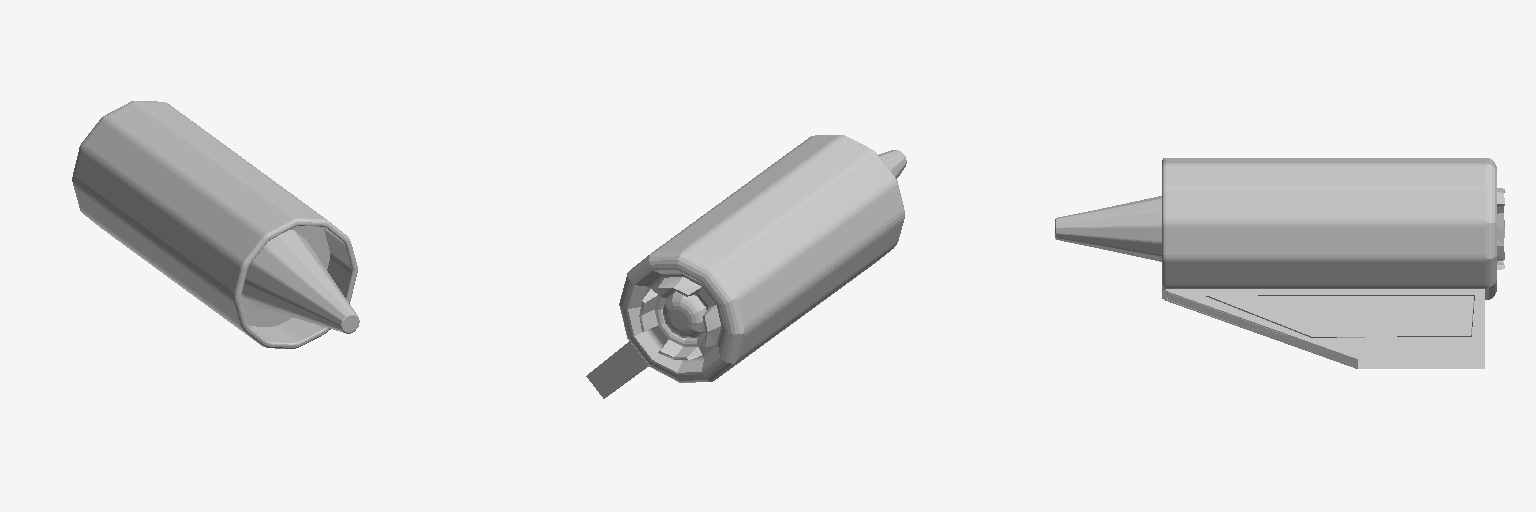
File: engineright.obj
The picture shows the model from 3 angles: view 1: azimuth 30°, elevation 25°; view 2: azimuth 150°, elevation 25°; view 3: azimuth 270°, elevation 25°; orthographic projection.
Visible parts, largest first — view 1: Small_Space_Fighter_Cube_Small_Space_Fighter.003_Small_Space_Fi; view 2: Small_Space_Fighter_Cube_Small_Space_Fighter.003_Small_Space_Fi; view 3: Small_Space_Fighter_Cube_Small_Space_Fighter.003_Small_Space_Fi.
Part boxes in pixels (x1,y1,x2,y2): Small_Space_Fighter_Cube_Small_Space_Fighter.003_Small_Space_Fi: (72,101,359,348); Small_Space_Fighter_Cube_Small_Space_Fighter.003_Small_Space_Fi: (586,135,906,398); Small_Space_Fighter_Cube_Small_Space_Fighter.003_Small_Space_Fi: (1055,158,1504,368).
Bounding box in the file's own units: 0.3837 × 0.3837 × 0.938.